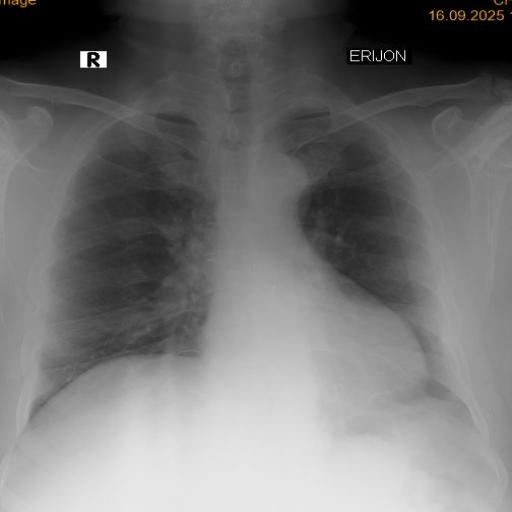kardiomegali: (11, 62, 486, 454)
